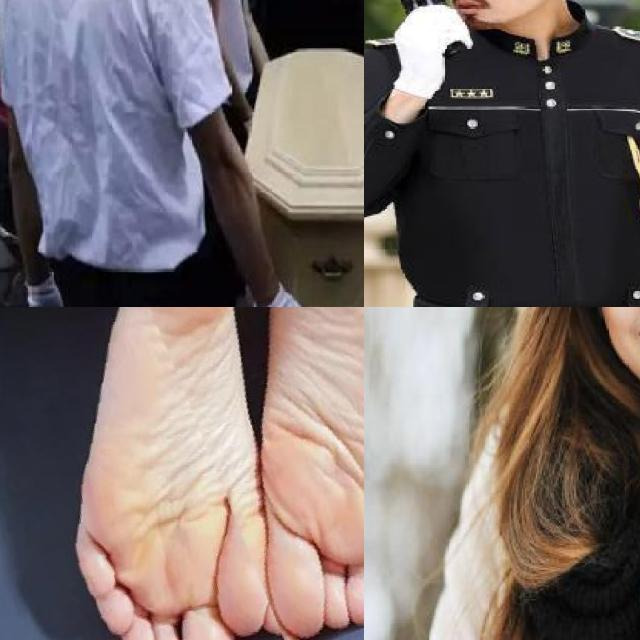Barefoots: (70, 307, 264, 640), (261, 307, 364, 639)
face_nomask: (427, 0, 542, 22)
hand_glove: (388, 4, 478, 90), (23, 284, 63, 307)
person: (0, 0, 311, 307), (364, 0, 640, 307), (474, 307, 640, 640), (170, 0, 286, 132)
